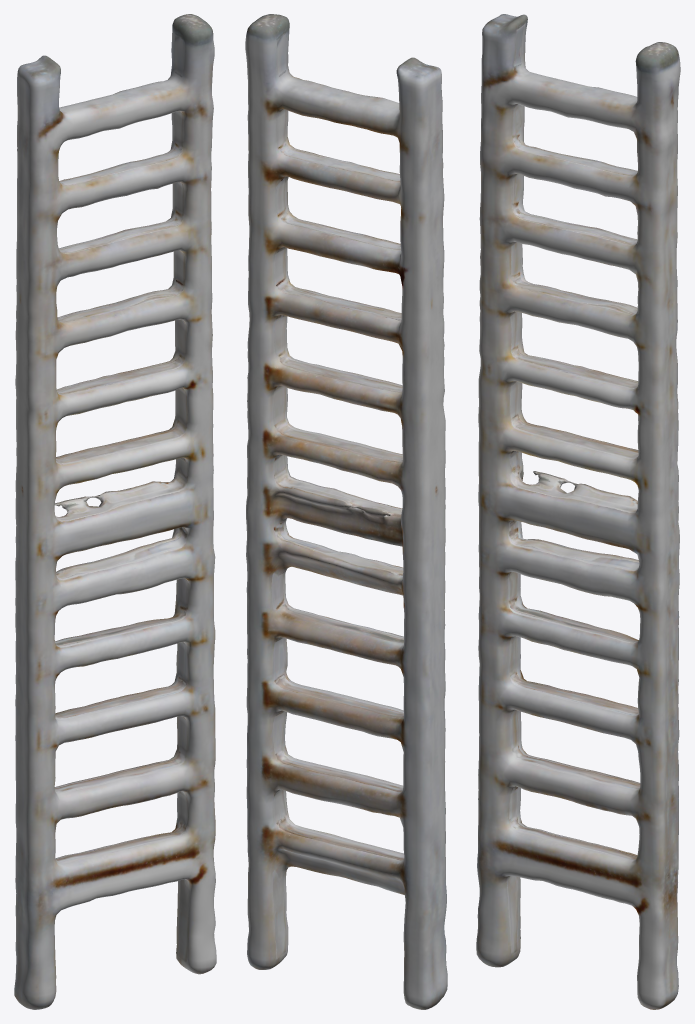
File: 5d26cf1ebc7b_white_ladder_of_woo.fbx
3 views of the same model, side by side, from view 1: azimuth 30°, elevation 25°; view 2: azimuth 150°, elevation 25°; view 3: azimuth 330°, elevation 25° (orthographic).
Visible parts, largest first — view 1: mesh; view 2: mesh; view 3: mesh.
Part boxes in pixels (<box>): mesh: <box>14,14,216,1009</box>; mesh: <box>245,14,447,1009</box>; mesh: <box>476,14,680,1009</box>.
Size of the model in its own units: 21.04 by 99.92 by 4.63.
